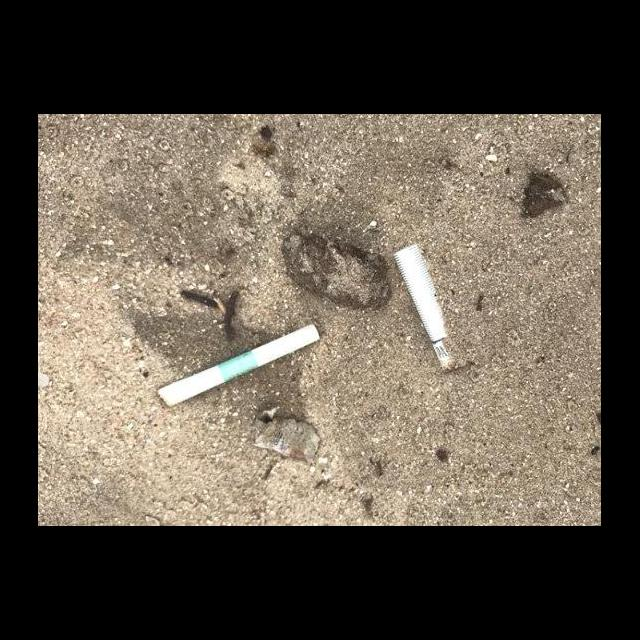Cigarette Butt: (155, 322, 322, 409), (394, 241, 472, 374)
